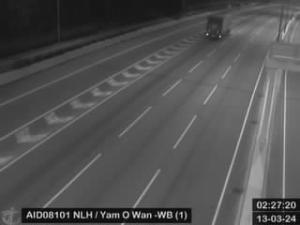truck: (204, 14, 232, 40)
